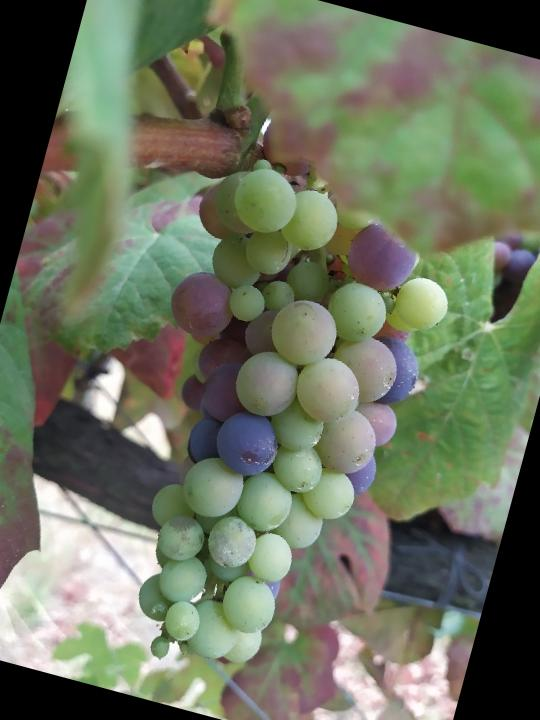grape: (77, 148, 473, 713)
